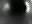person: (25, 1, 32, 17), (4, 4, 10, 15)
